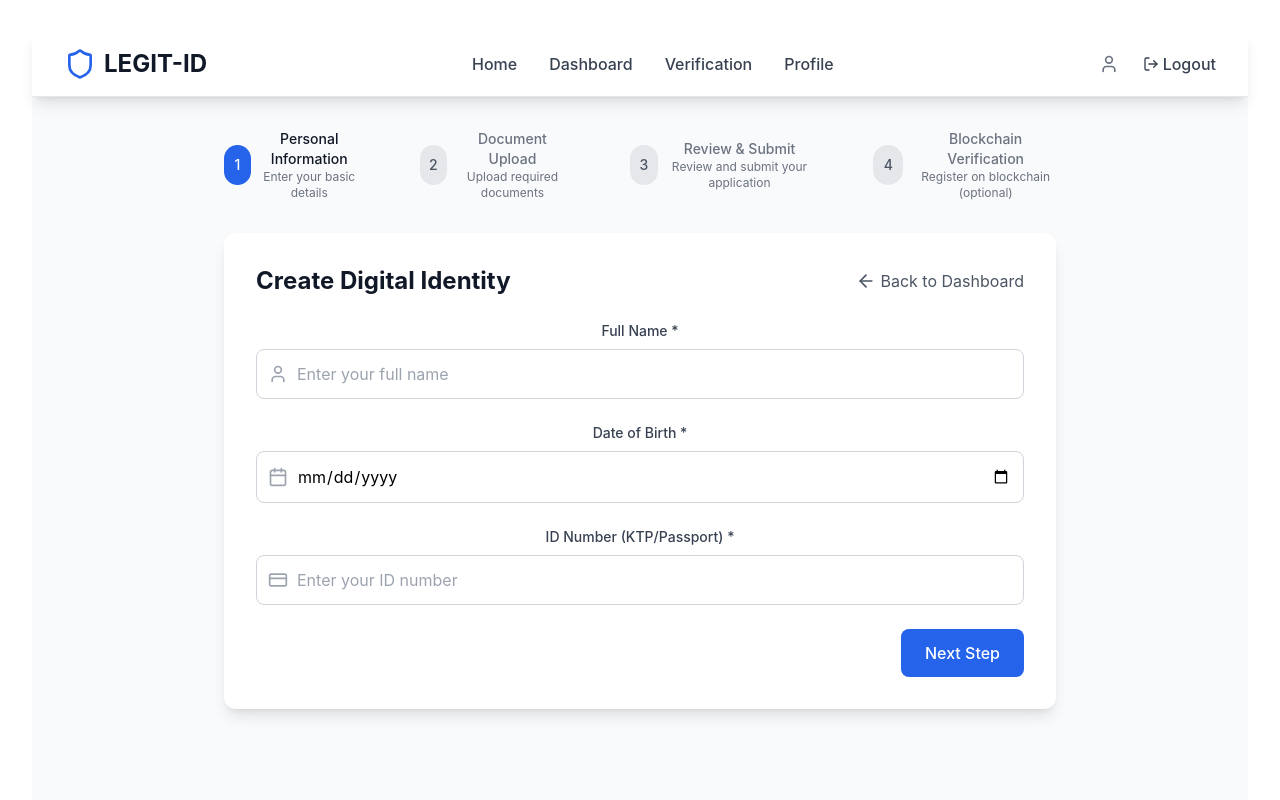
Test case: IdentityCreatePage › allows going back to previous steps
Note: Fill step 1 and proceed
Type "John Doe" into the field labelled "Full Name *" at (640, 374), box top-left (256, 349), bottom-right (1024, 399)
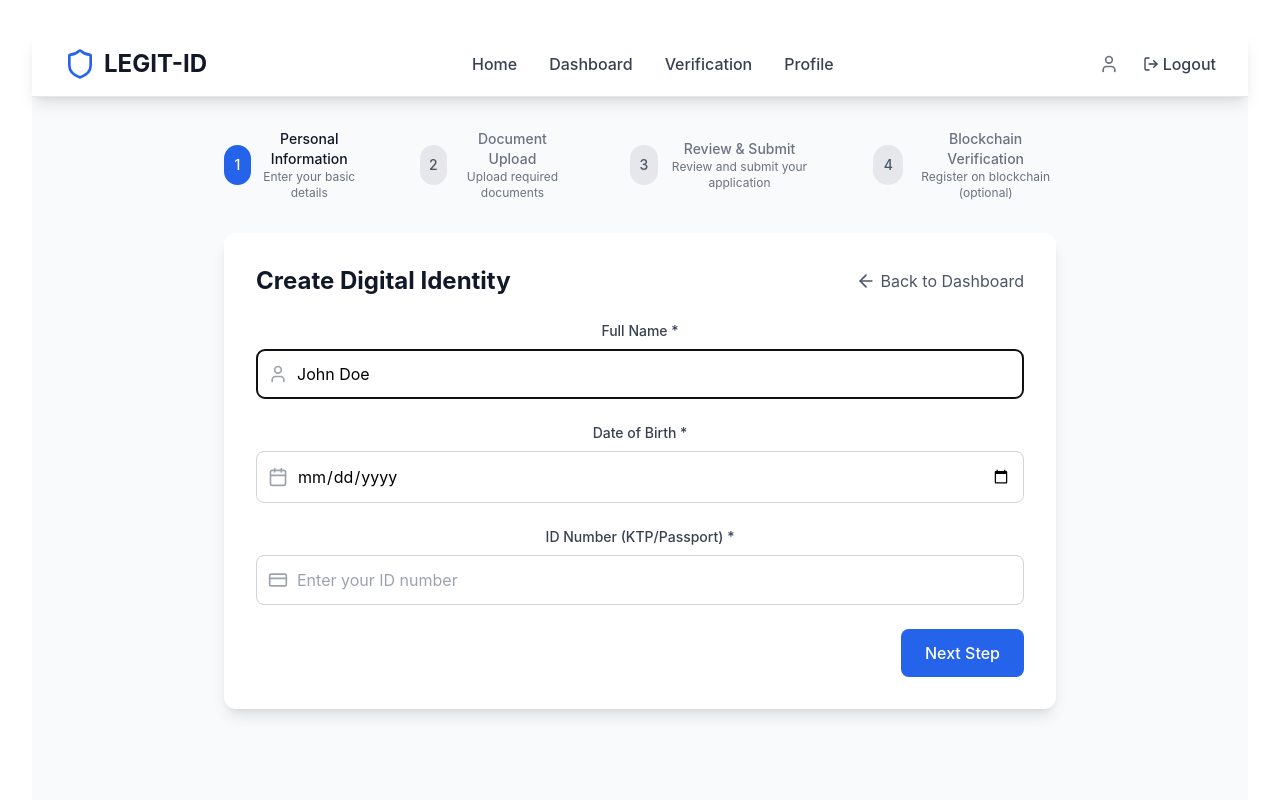
Type "1990-01-01" into the date field labelled "Date of Birth *" at (640, 477), box top-left (256, 451), bottom-right (1024, 503)
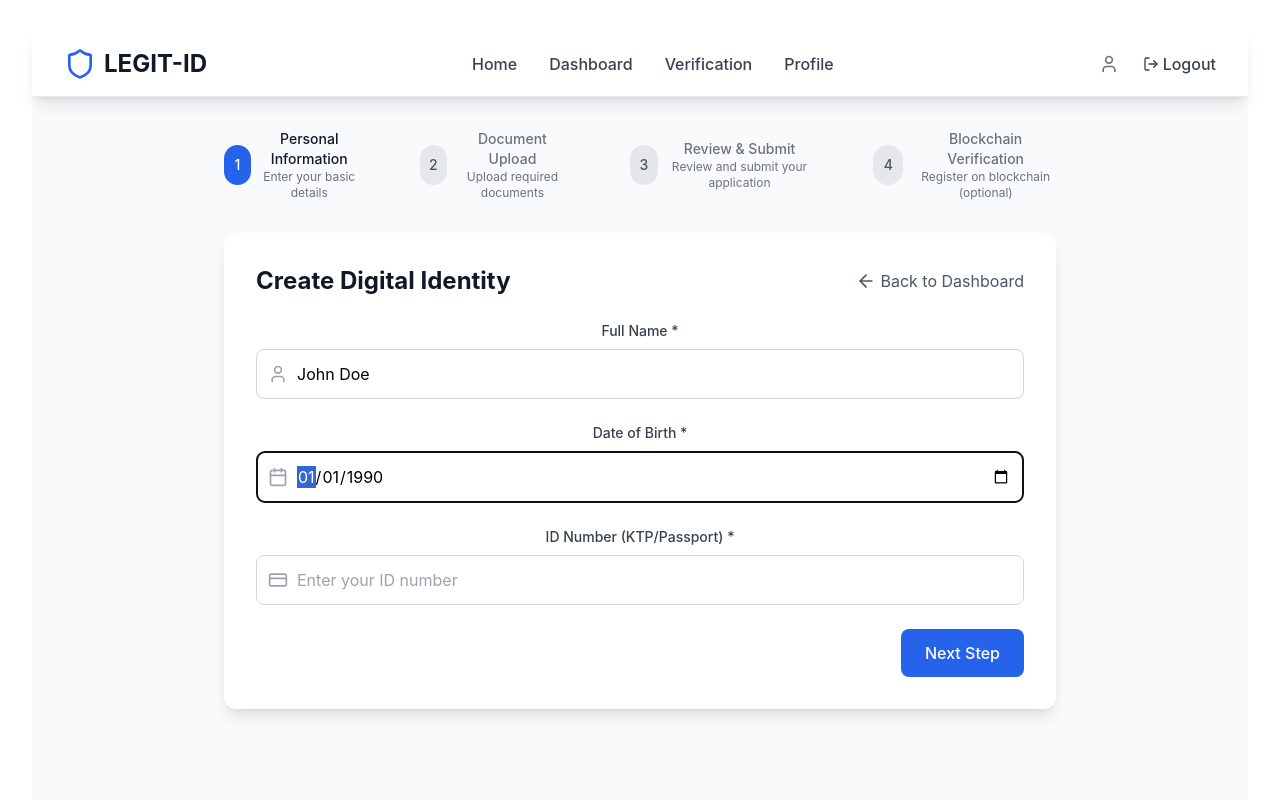
Type "1234567890" into the field labelled "ID Number (KTP/Passport) *" at (640, 580), box top-left (256, 555), bottom-right (1024, 605)
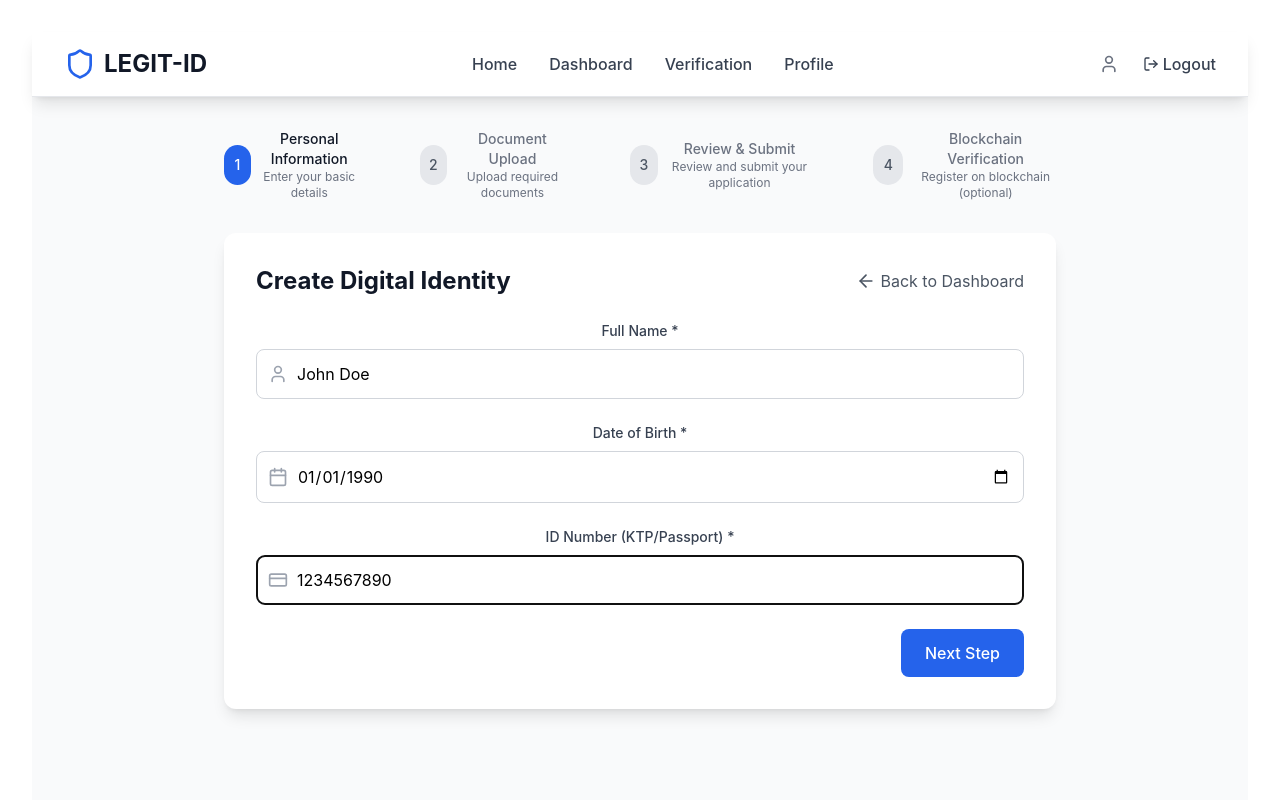
Click the button "Next Step" at (962, 653), box top-left (901, 629), bottom-right (1024, 677)
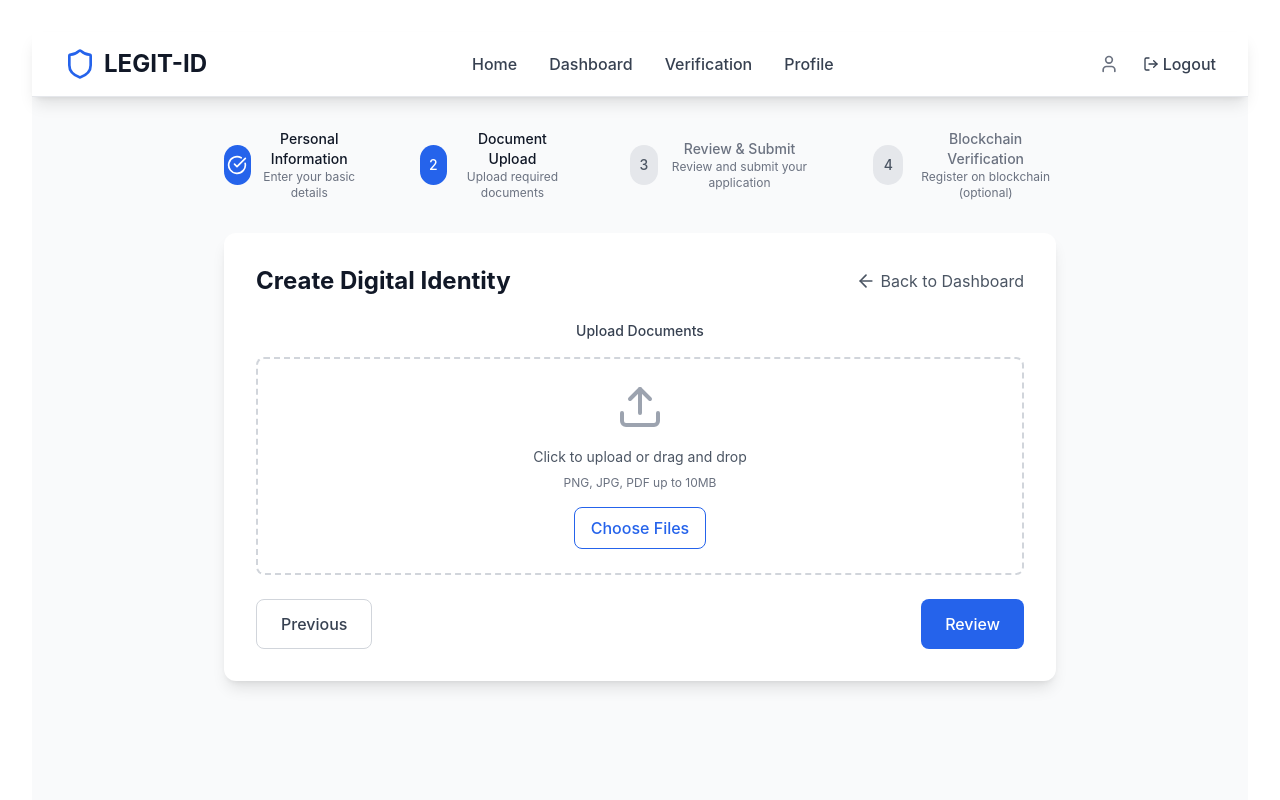
Result: the text "Upload Documents" is shown at top-left (576, 322), bottom-right (704, 339)
Note:  Go back
Click the button "Previous" at (314, 624), box top-left (256, 599), bottom-right (372, 649)
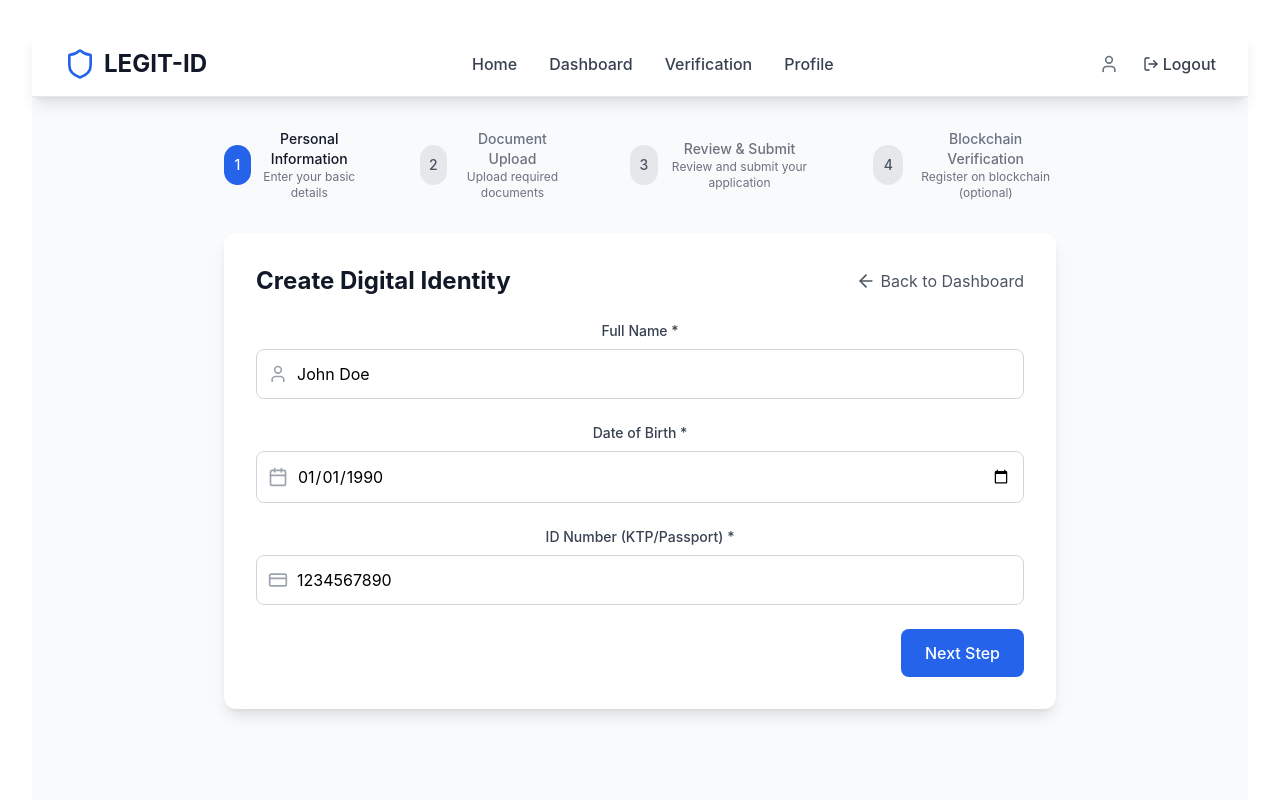
Result: the field labelled "Full Name *" holds "John Doe" at top-left (256, 349), bottom-right (1024, 399)
